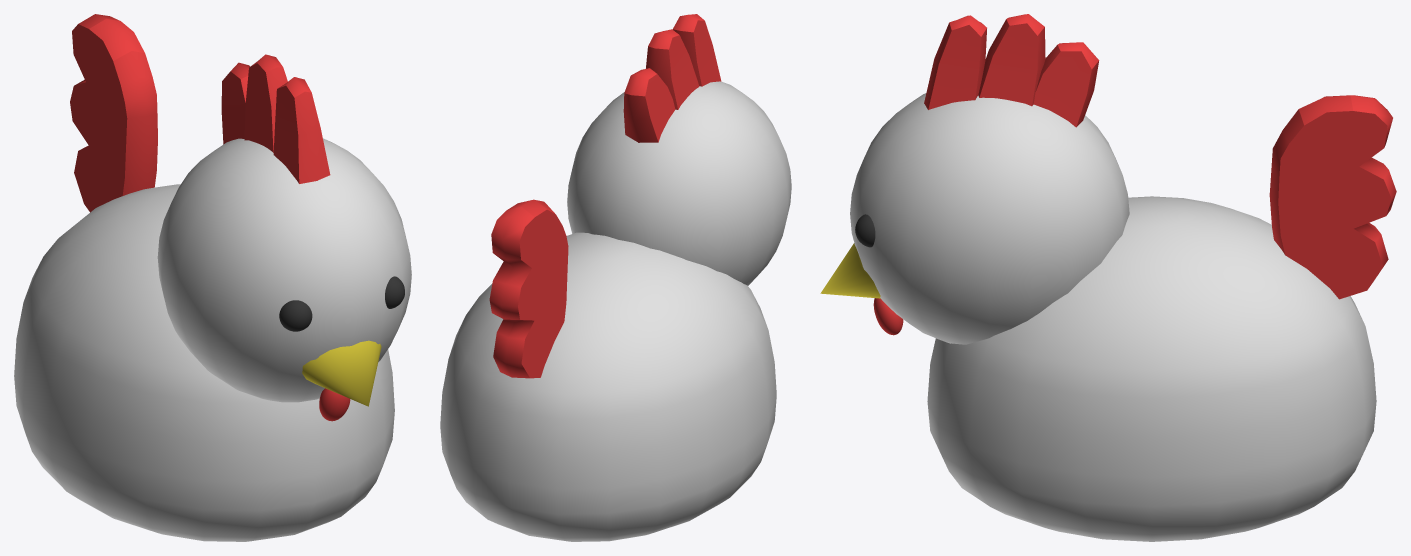
File: toriniku.fbx
3 views of the same model, side by side, from view 1: azimuth 30°, elevation 25°; view 2: azimuth 150°, elevation 25°; view 3: azimuth 270°, elevation 25° (orthographic). The views are drawn at different scales.
Parts seen in each view (by area): view 1: pSphere1, pSphere2, pCube9, pCube8, pCone1, pCube3, pCube7, pSphere4, pSphere5, pSphere3; view 2: pSphere1, pSphere2, pCube9, pCube7, pCube3, pCube8; view 3: pSphere1, pSphere2, pCube9, pCube3, pCube8, pCube7, pCone1, pSphere5.
Part boxes in pixels (x1=…): pSphere1: x1=14, y1=184, x2=394, y2=541; pSphere2: x1=157, y1=138, x2=411, y2=402; pCube9: x1=70, y1=14, x2=157, y2=212; pCube8: x1=273, y1=77, x2=330, y2=183; pCone1: x1=302, y1=340, x2=381, y2=406; pCube3: x1=244, y1=54, x2=287, y2=152; pCube7: x1=221, y1=62, x2=249, y2=144; pSphere4: x1=279, y1=300, x2=312, y2=331; pSphere5: x1=319, y1=388, x2=350, y2=421; pSphere3: x1=385, y1=276, x2=404, y2=308; pSphere1: x1=440, y1=232, x2=776, y2=541; pSphere2: x1=567, y1=81, x2=791, y2=285; pCube9: x1=489, y1=199, x2=568, y2=378; pCube7: x1=623, y1=68, x2=675, y2=142; pCube3: x1=646, y1=29, x2=699, y2=109; pCube8: x1=672, y1=14, x2=721, y2=86; pSphere1: x1=927, y1=196, x2=1376, y2=541; pSphere2: x1=850, y1=93, x2=1129, y2=344; pCube9: x1=1269, y1=95, x2=1396, y2=299; pCube3: x1=978, y1=14, x2=1045, y2=106; pCube8: x1=924, y1=15, x2=986, y2=109; pCube7: x1=1033, y1=42, x2=1099, y2=127; pCone1: x1=820, y1=243, x2=880, y2=298; pSphere5: x1=873, y1=298, x2=903, y2=335.
Bounding box in the file's own units: 2 × 3.05 × 3.2.
